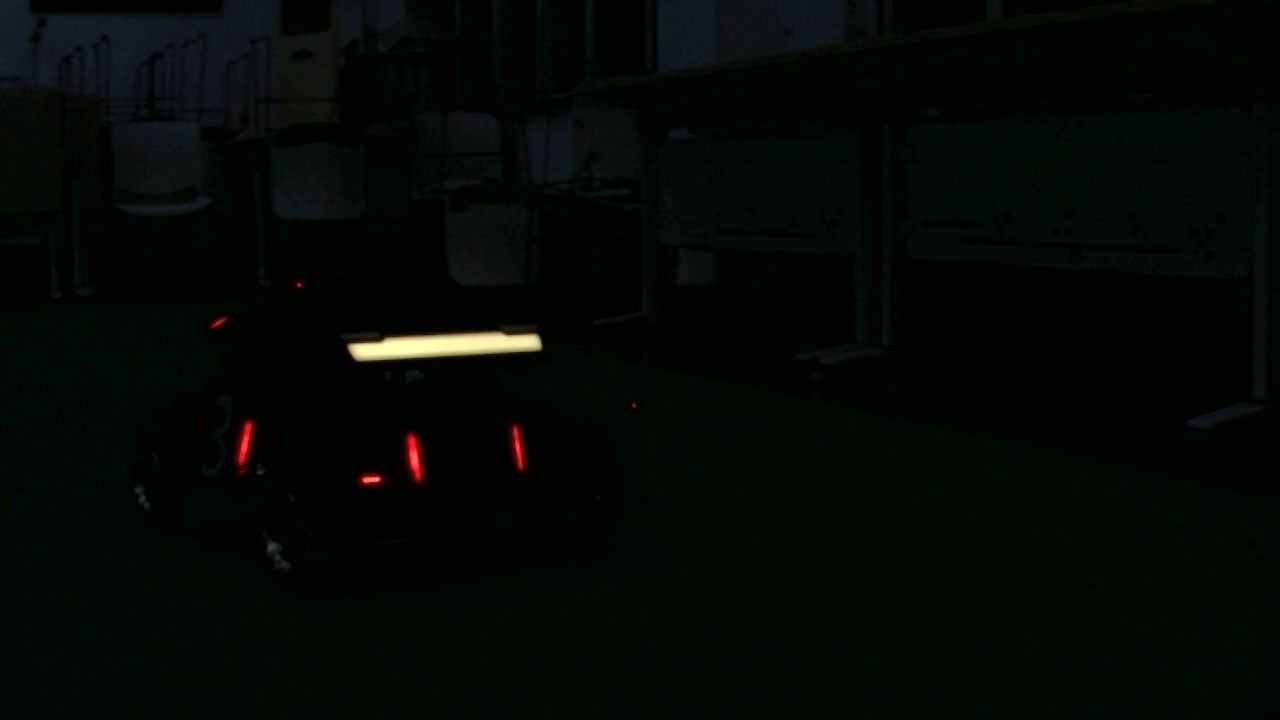lamp: (232, 407, 257, 470), (407, 426, 430, 487), (509, 426, 528, 477)
notpair1: (231, 404, 428, 487)
pair1: (404, 424, 527, 485)
